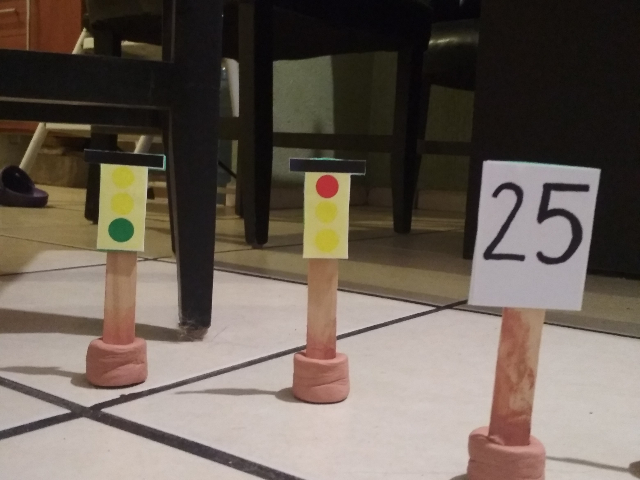Green Traffic Light: (77, 145, 169, 255)
Red Traffic Light: (286, 154, 369, 262)
Speed Limit 25: (463, 158, 604, 314)
